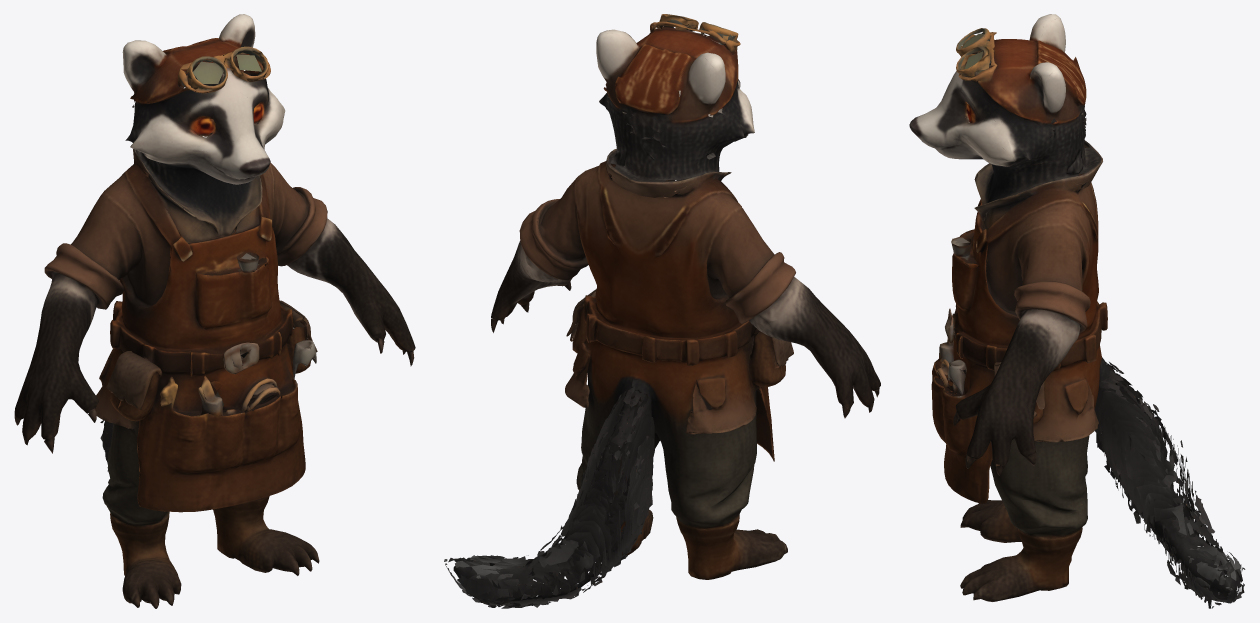
The model's file is badger.glb.
3 renders of one model, left to right at view 1: azimuth 30°, elevation 25°; view 2: azimuth 150°, elevation 25°; view 3: azimuth 270°, elevation 25°, orthographic. The views are drawn at different scales.
Parts seen in each view (by area): view 1: geometry_0; view 2: geometry_0; view 3: geometry_0.
Boxes of the visible parts, x1,y1,x2,y2 form: geometry_0: [14, 14, 415, 608]; geometry_0: [444, 14, 880, 608]; geometry_0: [909, 14, 1245, 608].
Size of the model in its own units: 0.7486 by 0.9947 by 0.581.
Materials: 1 (1 with a texture image).
